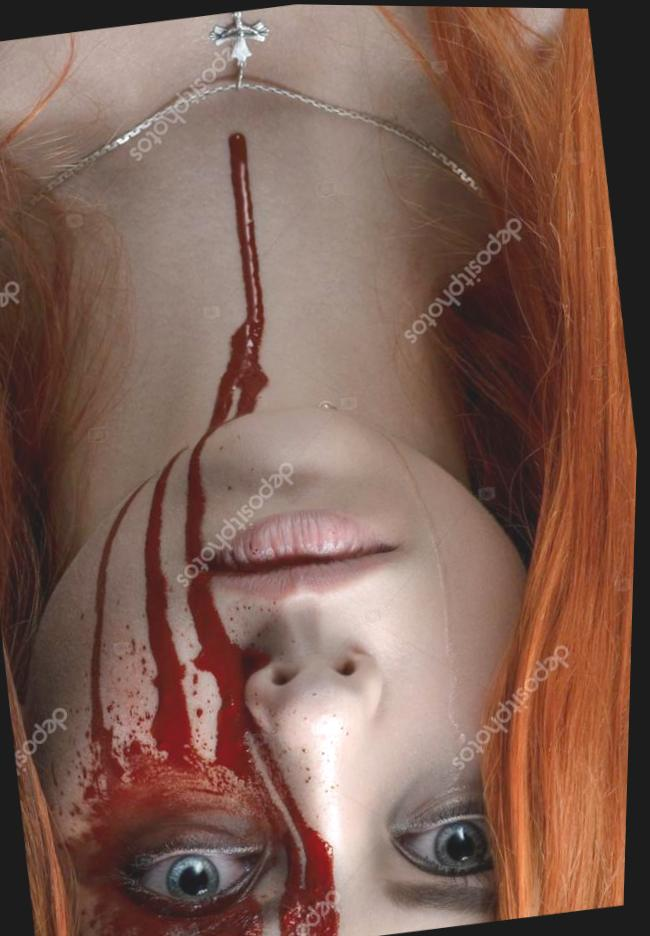Fire: (79, 439, 345, 936), (208, 130, 270, 436)
